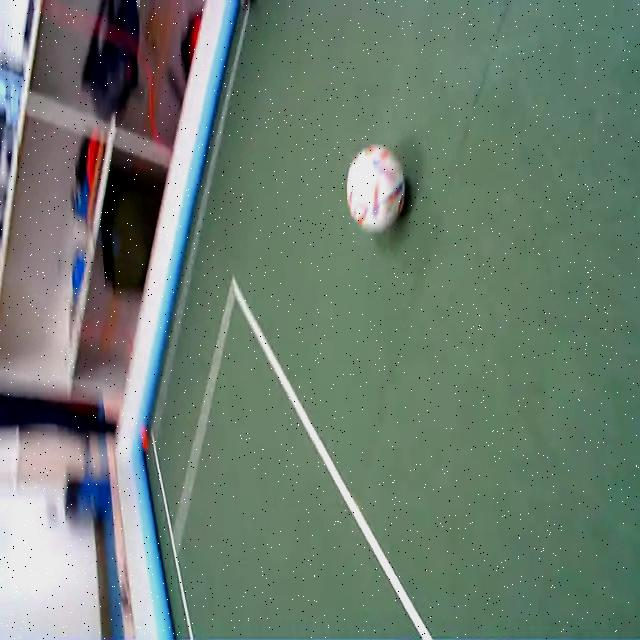ball: (347, 146, 405, 231)
